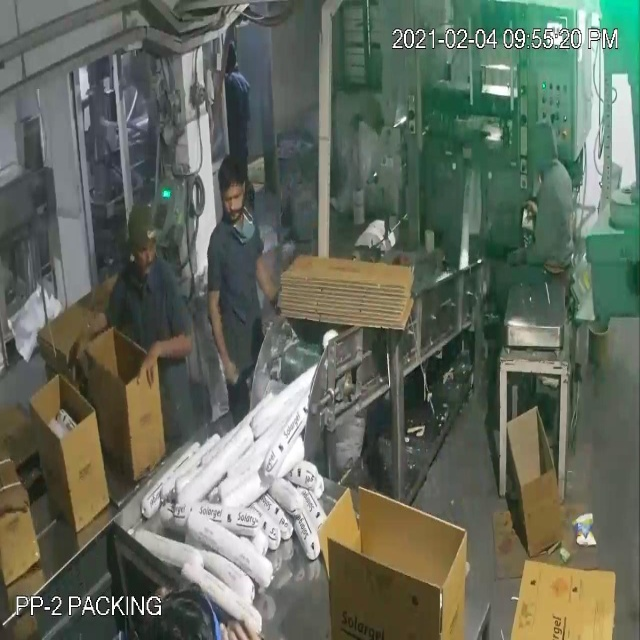Sin_guantes: (202, 272, 245, 406), (132, 329, 198, 385), (65, 293, 117, 363), (248, 247, 289, 324)
